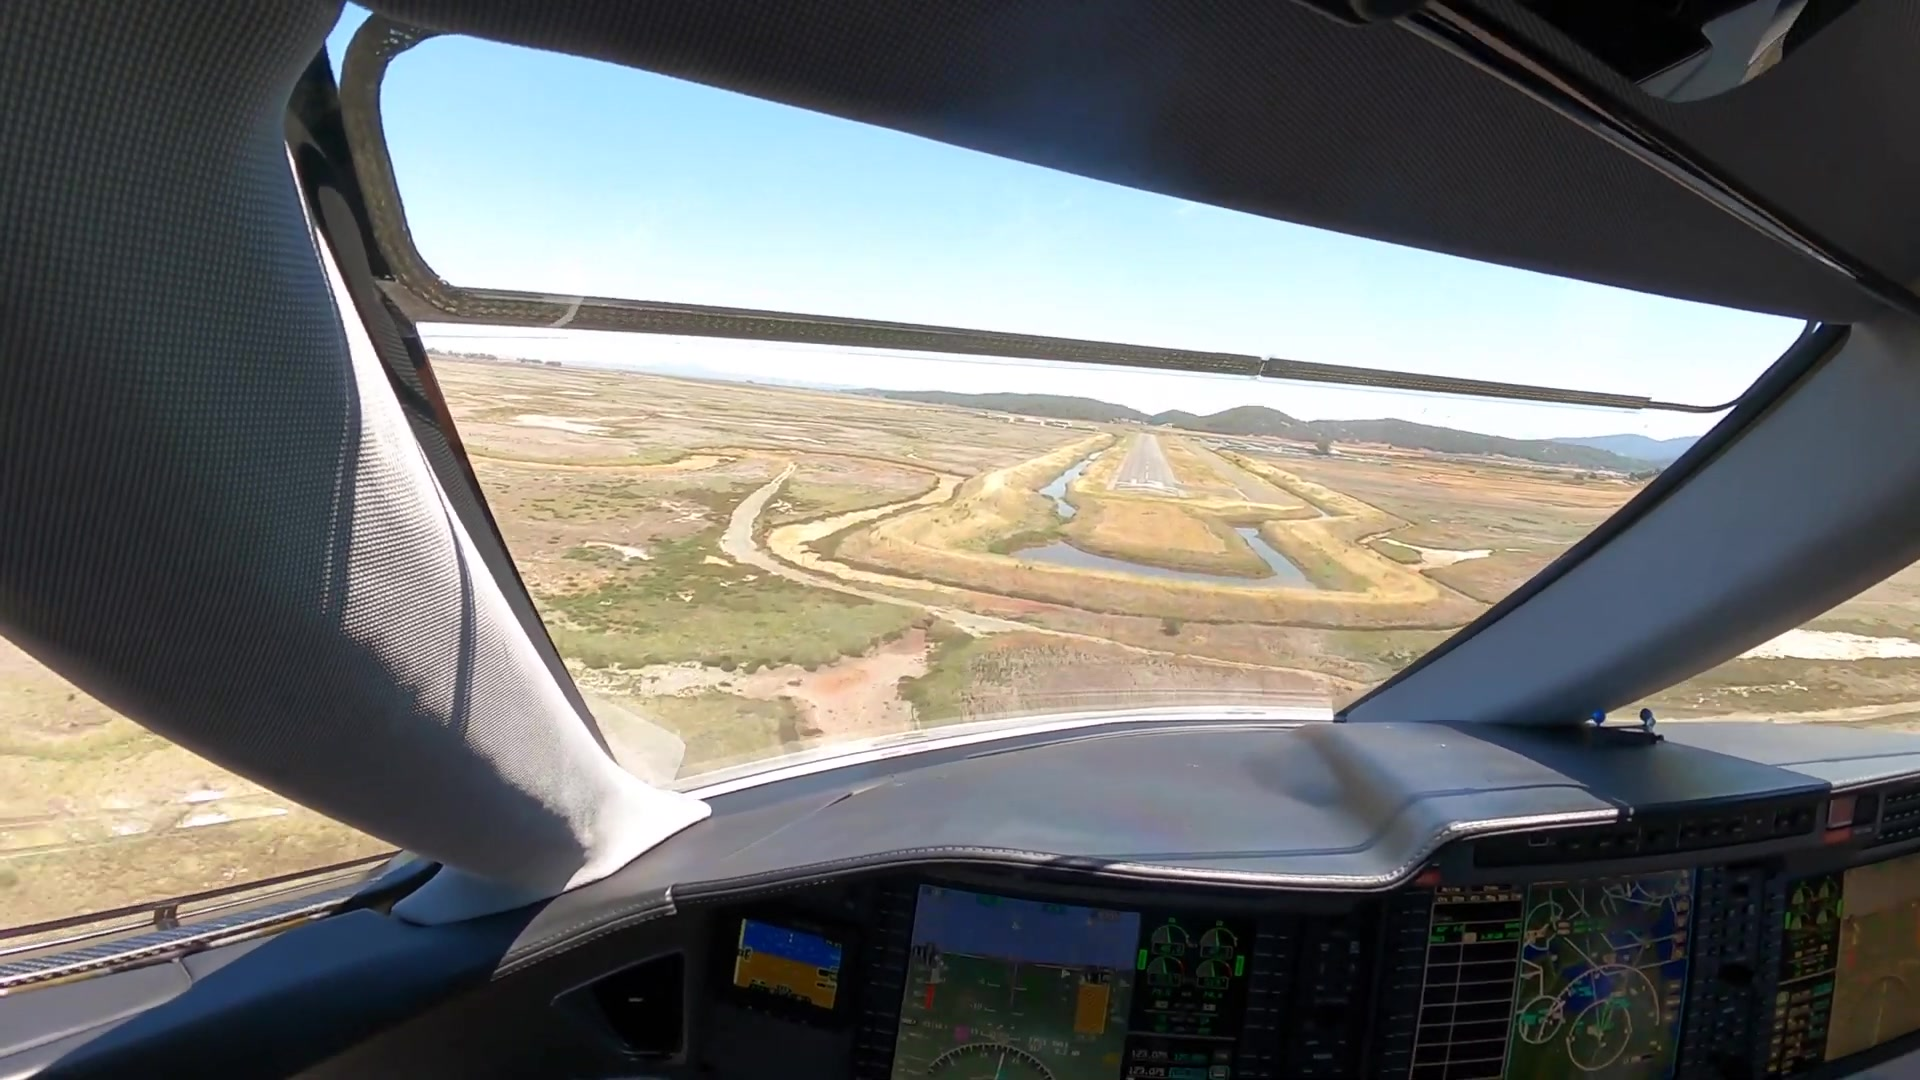runway: (1105, 433, 1176, 495)
